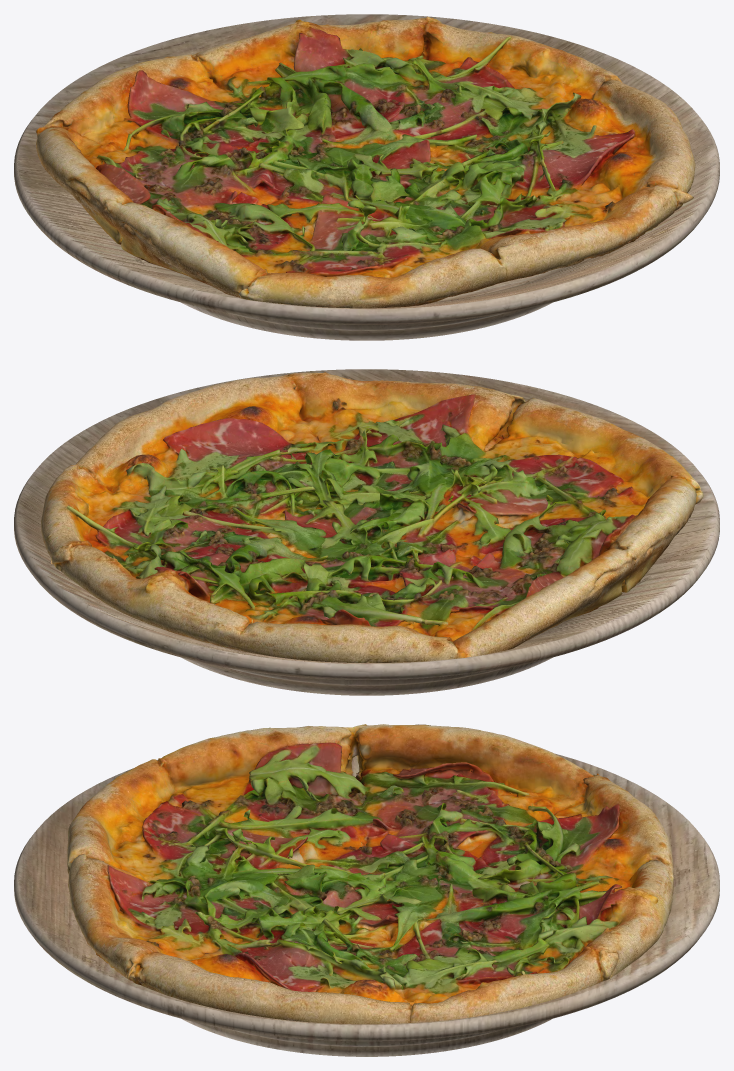
The model's file is pizzaa.glb.
The picture shows the model from 3 angles, top to bottom: view 1: azimuth 30°, elevation 25°; view 2: azimuth 150°, elevation 25°; view 3: azimuth 270°, elevation 25°; orthographic projection.
Parts seen in each view (by area): view 1: pizza_pizza_0, Tarelka001__0; view 2: pizza_pizza_0, Tarelka001__0; view 3: pizza_pizza_0, Tarelka001__0.
Boxes of the visible parts, x1,y1,x2,y2 form: pizza_pizza_0: [36, 16, 695, 308]; Tarelka001__0: [14, 14, 719, 340]; pizza_pizza_0: [41, 372, 703, 662]; Tarelka001__0: [14, 369, 719, 695]; pizza_pizza_0: [67, 724, 673, 1024]; Tarelka001__0: [14, 753, 719, 1056].
Bounding box in the file's own units: 0.6031 × 0.1028 × 0.6031.
2 materials, 2 textured.
